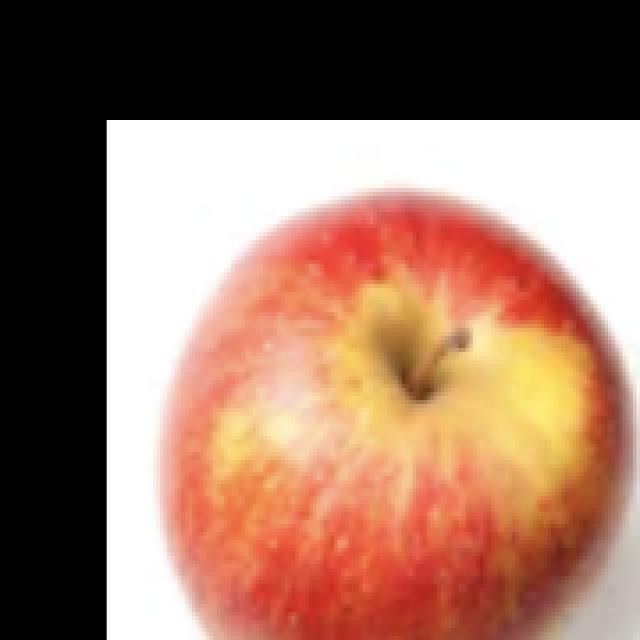Fresh Apple: (151, 195, 640, 640)
